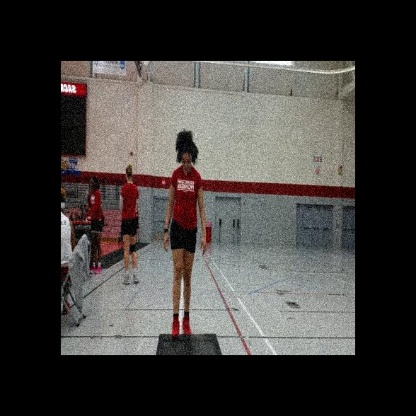lateral_flexion_right: (164, 128, 208, 343)
stance_width_narrow: (163, 163, 208, 343)
